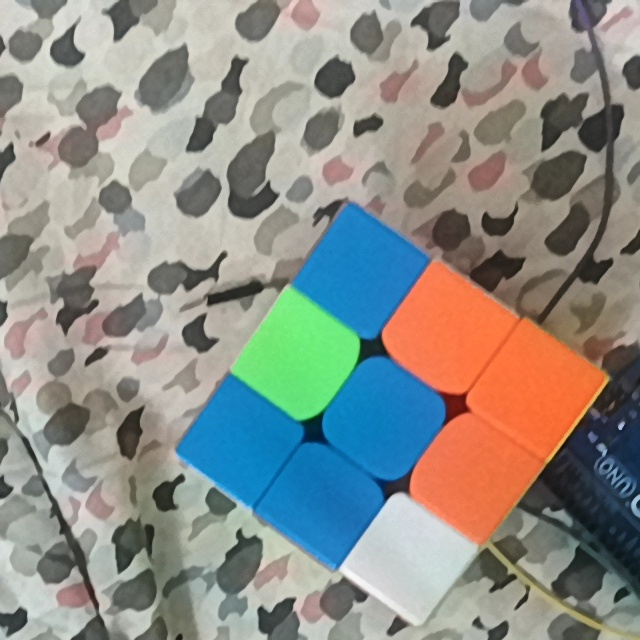tile: (409, 292, 481, 366), (437, 440, 508, 512), (346, 383, 418, 454), (264, 324, 334, 394), (500, 356, 570, 425), (327, 239, 396, 307), (370, 526, 442, 591), (206, 405, 274, 473), (287, 469, 358, 534)
